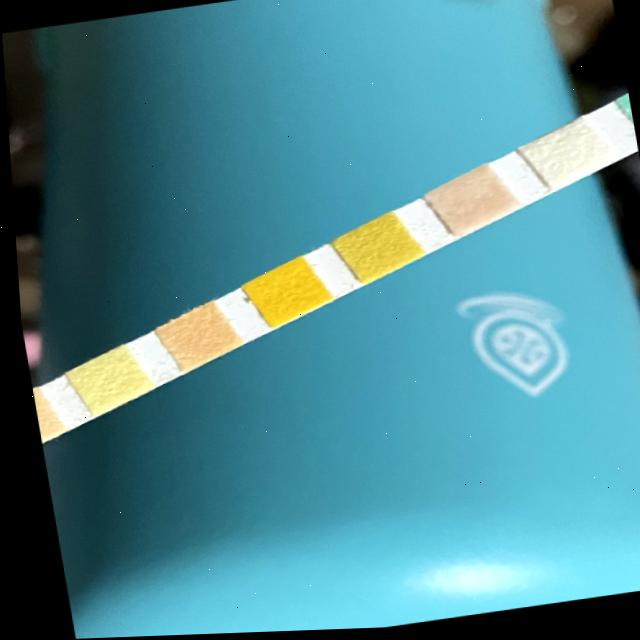Bilirubin: (530, 135, 594, 182)
Blood: (248, 269, 311, 317)
Ketone: (435, 179, 495, 230)
Protein: (70, 356, 132, 404)
SpGravity: (341, 228, 401, 274)
Urobilinogen: (28, 400, 45, 440)
pH: (161, 313, 219, 361)
